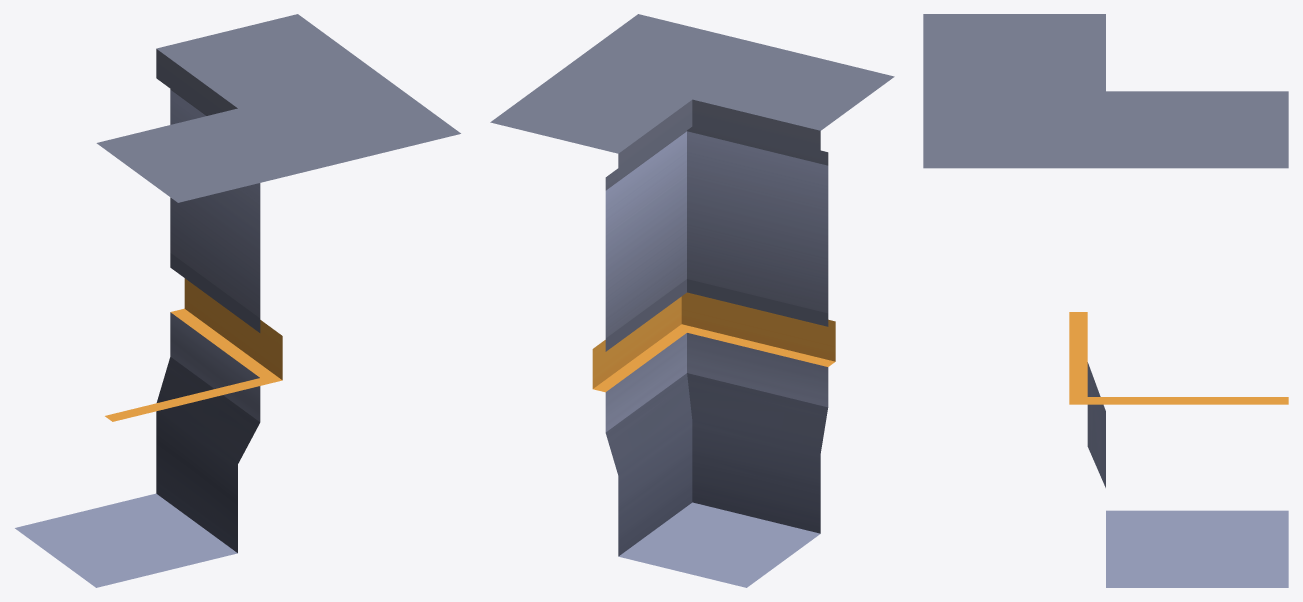
The picture shows the model from 3 angles, left to right: view 1: azimuth 30°, elevation 25°; view 2: azimuth 150°, elevation 25°; view 3: azimuth 270°, elevation 25°; orthographic projection. The views are drawn at different scales.
Visible parts, largest first — view 1: structure_corner_inner; view 2: structure_corner_inner; view 3: structure_corner_inner.
Part boxes in pixels (<box>): structure_corner_inner: <box>15,14,460,587</box>; structure_corner_inner: <box>490,14,894,587</box>; structure_corner_inner: <box>923,14,1288,587</box>.
Size of the model in its own units: 2 by 3 by 2.
Materials: 1 (1 with a texture image).
